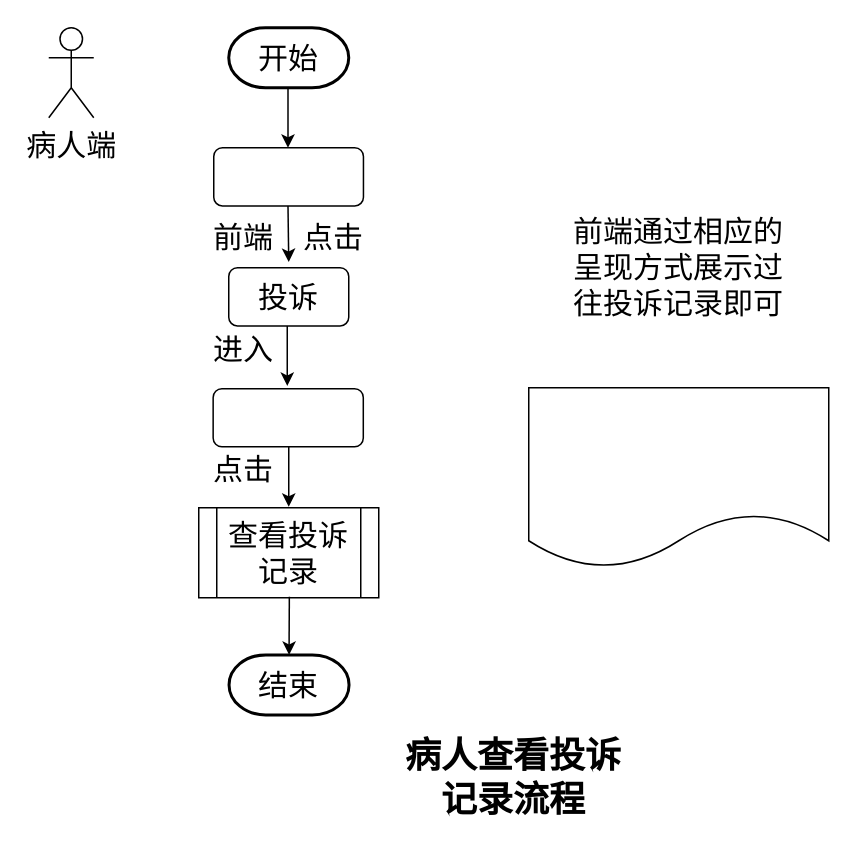
The diagram is 855 pixels wide and 846 high, and some of its shapes have lost their labels. Here are the shapes that lost their labels. From the top down, the centre of each, then its label:
At point 287,176: "导航页面".
At point 287,417: "投诉页面".
At point 678,477: "投诉处理情况： 1.状态;2.结果反馈 通过这两个属性查询".
